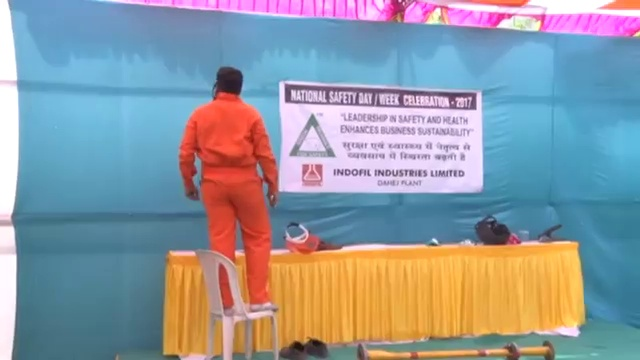helmet_off: (214, 63, 246, 100)
person: (180, 64, 282, 317)
